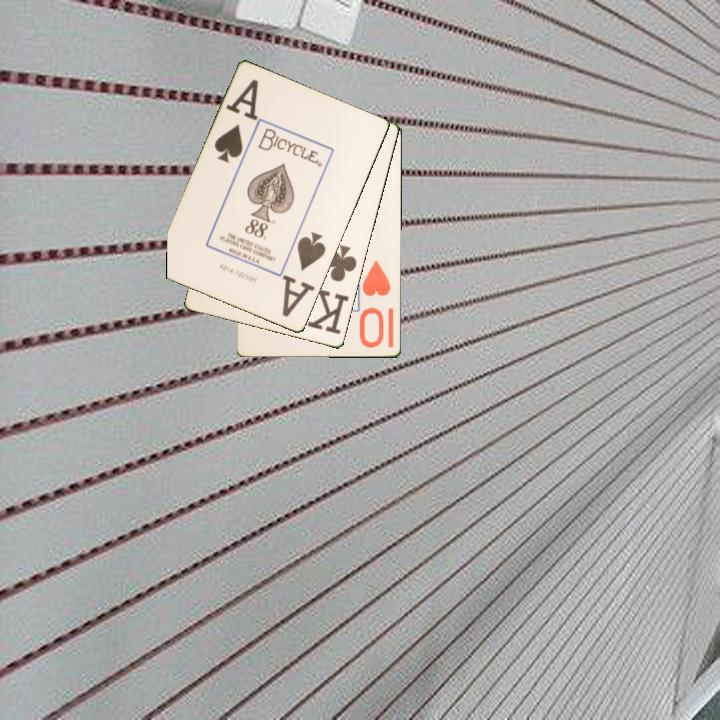10h: (359, 257, 394, 351)
As: (211, 76, 262, 166), (284, 228, 329, 312)
Kc: (305, 241, 360, 337)
